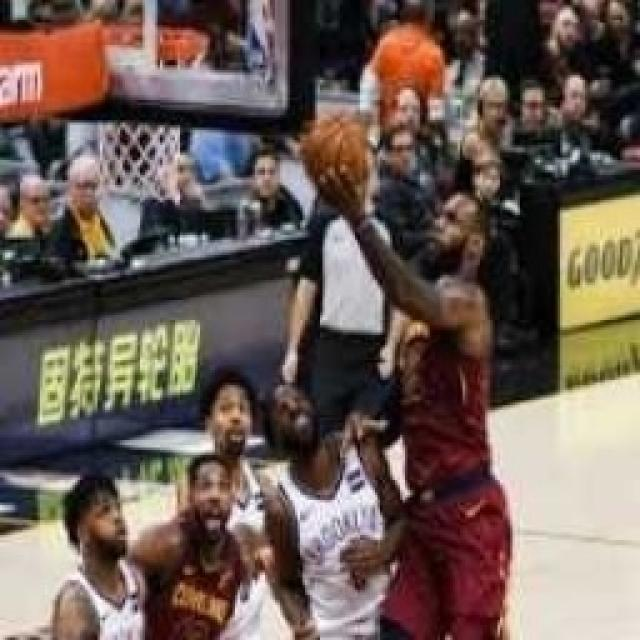rim: (298, 100, 374, 186)
